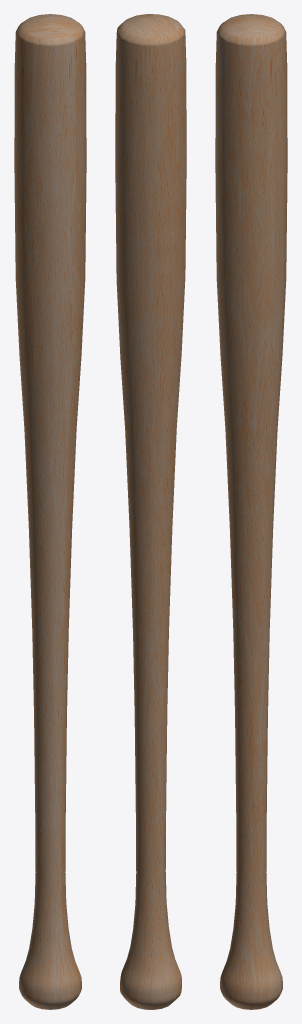
File: tacobasebol.fbx
The picture shows the model from 3 angles, left to right: view 1: azimuth 90°, elevation 25°; view 2: azimuth 210°, elevation 25°; view 3: azimuth 270°, elevation 25°; orthographic projection.
Visible parts, largest first — view 1: pCylinder1; view 2: pCylinder1; view 3: pCylinder1.
Part boxes in pixels (x1,y1,x2,y2): pCylinder1: (14, 14, 86, 1009); pCylinder1: (115, 14, 186, 1009); pCylinder1: (215, 14, 287, 1009).
Bounding box in the file's own units: 0.9268 × 13.91 × 0.9268.
